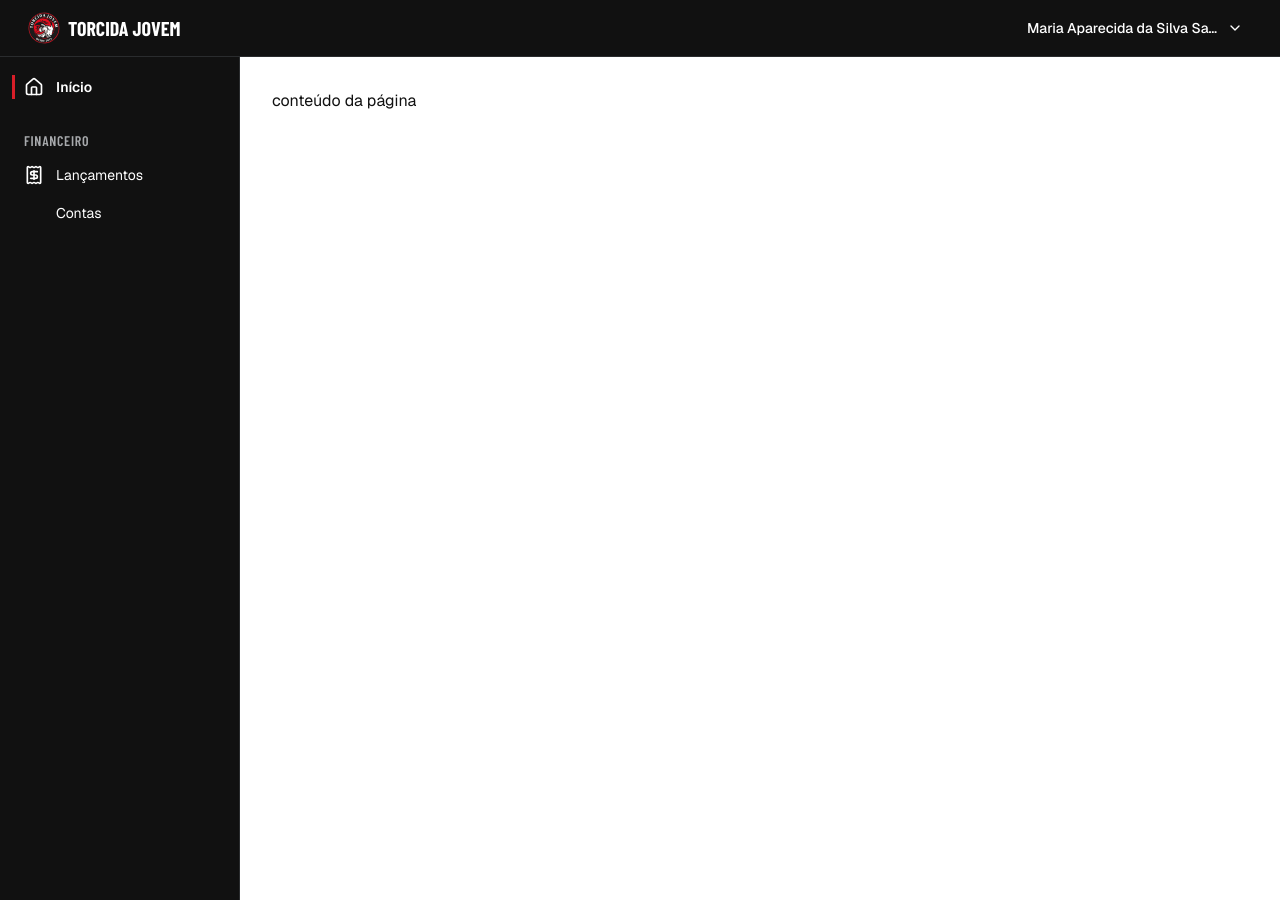
menu da pessoa › aberto, mostra o nome completo e o e-mail como texto, antes dos itens recebidos
Click the button "Maria Aparecida da Silva Sauro". click: (1135, 28)
box: [1014,10,1256,46]
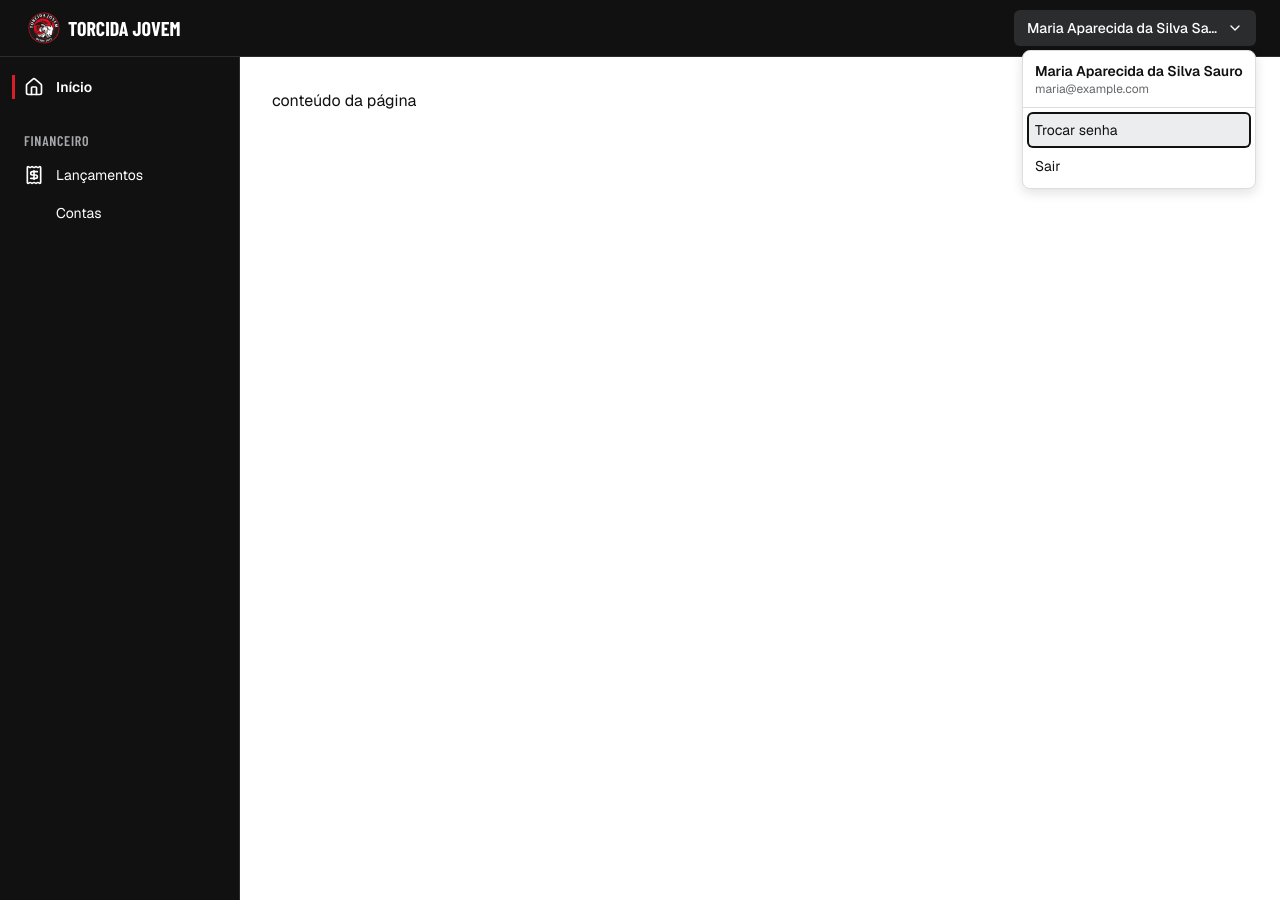
Expected: the text "maria@example.com" is shown, [1035,81,1149,97]
Expected: the menu items read "Trocar senha", "Sair", in this order, [1027,112,1251,148]; [1035,157,1060,175]
